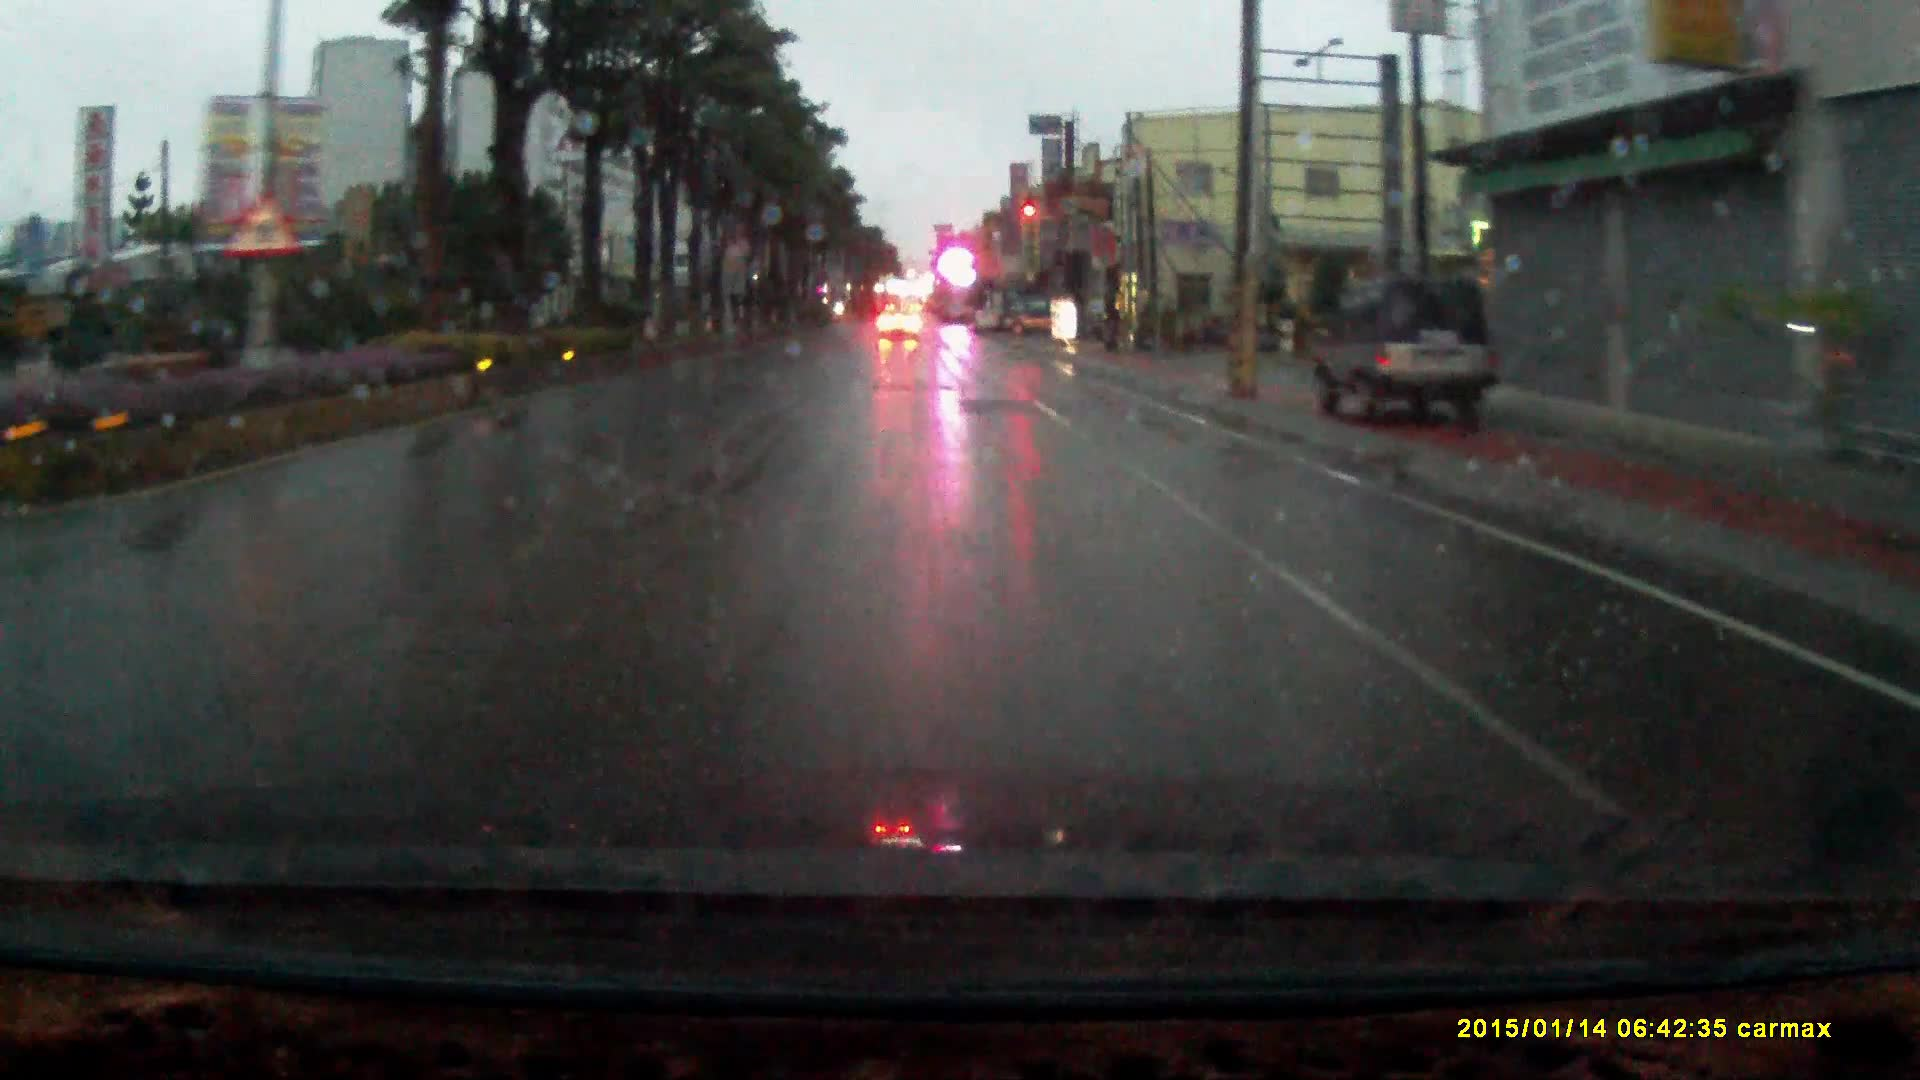vehicle: (1311, 276, 1503, 425), (878, 307, 922, 342)
